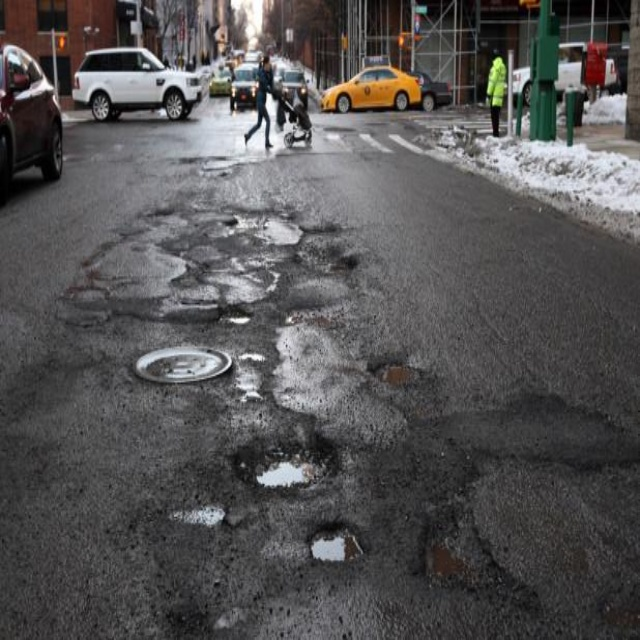pothole: (229, 438, 341, 491), (305, 521, 368, 566), (372, 362, 419, 387)
